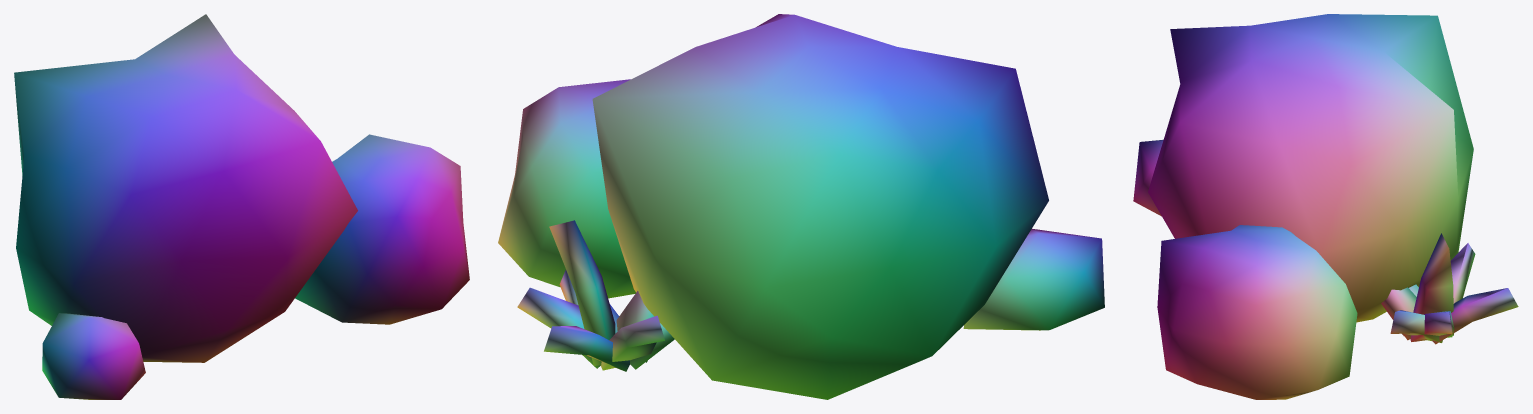
The model's file is SM_Rock_Plains_Cluster_A.fbx.
The picture shows the model from 3 angles, left to right: view 1: azimuth 30°, elevation 25°; view 2: azimuth 150°, elevation 25°; view 3: azimuth 270°, elevation 25°; orthographic projection. The views are drawn at different scales.
Visible parts, largest first — view 1: SM_Rock_Plains_Cluster_A; view 2: SM_Rock_Plains_Cluster_A; view 3: SM_Rock_Plains_Cluster_A.
Part boxes in pixels (x1,y1,x2,y2): SM_Rock_Plains_Cluster_A: [14, 14, 469, 399]; SM_Rock_Plains_Cluster_A: [498, 14, 1104, 399]; SM_Rock_Plains_Cluster_A: [1133, 14, 1518, 399].
Bounding box in the file's own units: 0.7885 × 0.4336 × 0.5859.
